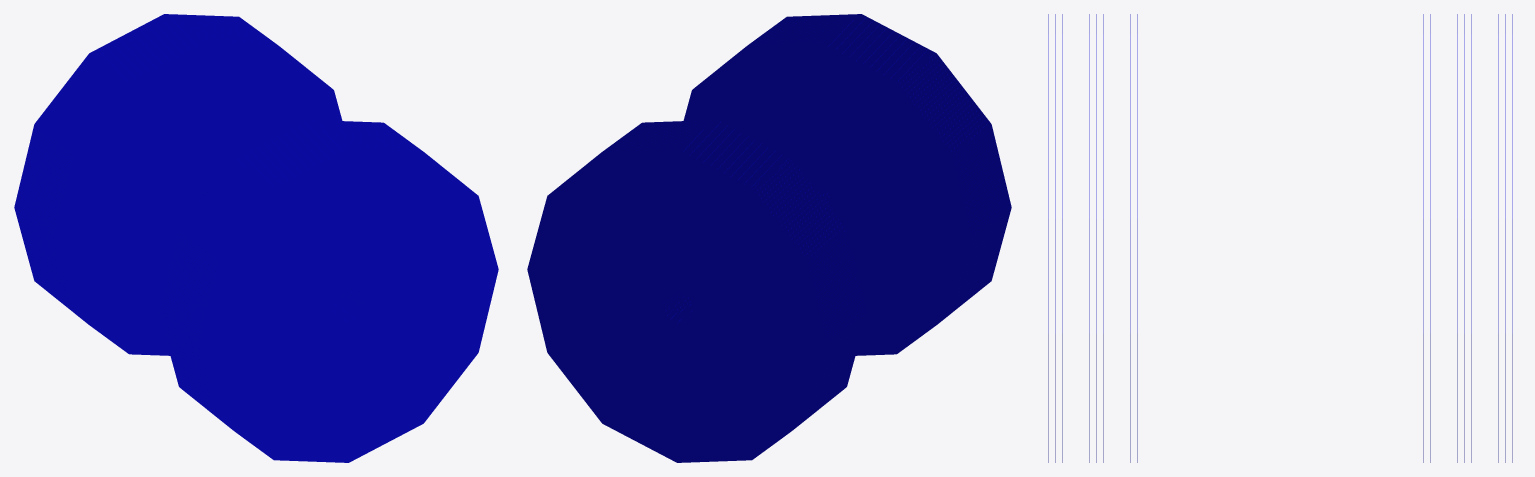
Rendered from HCalEndcap.gltf.
3 renders of one model, left to right at view 1: azimuth 30°, elevation 25°; view 2: azimuth 150°, elevation 25°; view 3: azimuth 270°, elevation 25°, orthographic. The views are drawn at different scales.
Visible parts, largest first — view 1: HCalEndcap; view 2: HCalEndcap; view 3: HCalEndcap.
Part boxes in pixels (bbox=[...]): HCalEndcap: bbox=[14, 14, 498, 462]; HCalEndcap: bbox=[527, 14, 1011, 462]; HCalEndcap: bbox=[1048, 14, 1512, 462].
Bounding box in the file's own units: 8517 × 8517 × 9075.
